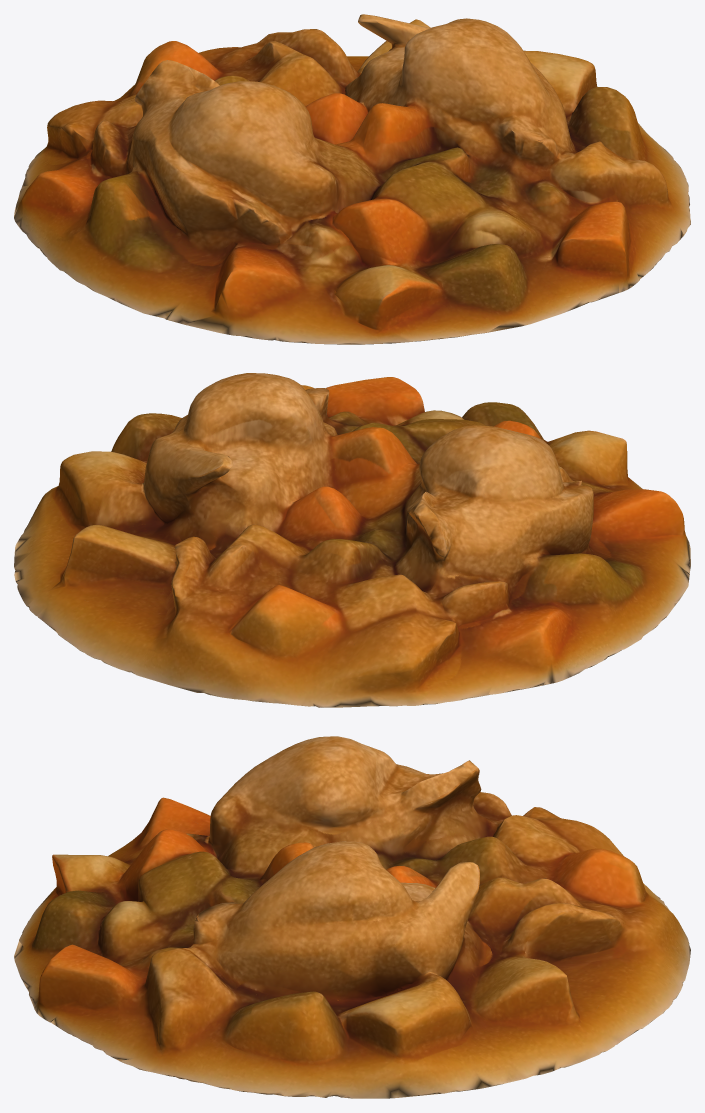
File: GuisadoPollo.fbx
3 views of the same model, one above another, from view 1: azimuth 30°, elevation 25°; view 2: azimuth 150°, elevation 25°; view 3: azimuth 270°, elevation 25° (orthographic).
Visible parts, largest first — view 1: Mesh_0; view 2: Mesh_0; view 3: Mesh_0.
Boxes of the visible parts, <box> form: Mesh_0: <box>14,14,690,344</box>; Mesh_0: <box>14,373,690,707</box>; Mesh_0: <box>14,736,690,1098</box>.
Size of the model in its own units: 188 by 48.08 by 190.
Materials: 1 (1 with a texture image).
